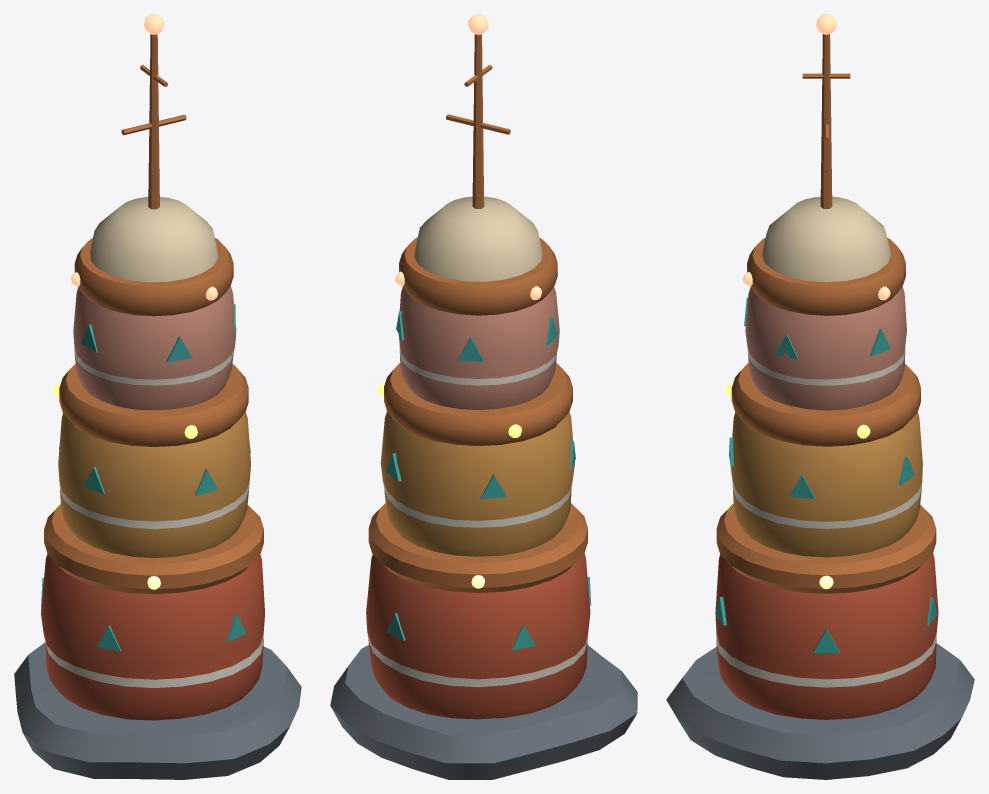
The model's file is deco_battery_totem.fbx.
3 renders of one model, left to right at view 1: azimuth 30°, elevation 25°; view 2: azimuth 150°, elevation 25°; view 3: azimuth 270°, elevation 25°, orthographic.
Visible parts, largest first — view 1: BatteryTotem_Cell1, BatteryTotem_Cell2, BatteryTotem_Plinth, BatteryTotem_Cell3, BatteryTotem_Band1, BatteryTotem_Cap, BatteryTotem_Band2, BatteryTotem_Band3, BatteryTotem_Antenna; view 2: BatteryTotem_Cell1, BatteryTotem_Cell2, BatteryTotem_Plinth, BatteryTotem_Cell3, BatteryTotem_Band1, BatteryTotem_Cap, BatteryTotem_Band2, BatteryTotem_Band3, BatteryTotem_Antenna; view 3: BatteryTotem_Cell1, BatteryTotem_Cell2, BatteryTotem_Plinth, BatteryTotem_Cell3, BatteryTotem_Band1, BatteryTotem_Cap, BatteryTotem_Band2, BatteryTotem_Band3, BatteryTotem_Antenna.
Boxes of the visible parts, left/top/right/bottom form: BatteryTotem_Cell1: left=41, top=554, right=264, bottom=720; BatteryTotem_Cell2: left=58, top=412, right=250, bottom=557; BatteryTotem_Plinth: left=14, top=642, right=301, bottom=779; BatteryTotem_Cell3: left=73, top=286, right=236, bottom=410; BatteryTotem_Band1: left=44, top=504, right=263, bottom=594; BatteryTotem_Cap: left=89, top=197, right=218, bottom=282; BatteryTotem_Band2: left=59, top=363, right=248, bottom=446; BatteryTotem_Band3: left=74, top=238, right=233, bottom=316; BatteryTotem_Antenna: left=121, top=14, right=186, bottom=209; BatteryTotem_Cell1: left=366, top=554, right=591, bottom=719; BatteryTotem_Cell2: left=380, top=411, right=575, bottom=556; BatteryTotem_Plinth: left=330, top=645, right=637, bottom=779; BatteryTotem_Cell3: left=396, top=287, right=559, bottom=409; BatteryTotem_Band1: left=368, top=503, right=587, bottom=592; BatteryTotem_Cap: left=414, top=196, right=542, bottom=281; BatteryTotem_Band2: left=384, top=362, right=572, bottom=445; BatteryTotem_Band3: left=399, top=237, right=557, bottom=315; BatteryTotem_Antenna: left=446, top=14, right=510, bottom=208; BatteryTotem_Cell1: left=715, top=553, right=938, bottom=719; BatteryTotem_Cell2: left=729, top=412, right=922, bottom=557; BatteryTotem_Plinth: left=666, top=643, right=974, bottom=779; BatteryTotem_Cell3: left=744, top=286, right=906, bottom=410; BatteryTotem_Band1: left=716, top=503, right=936, bottom=593; BatteryTotem_Cap: left=762, top=196, right=890, bottom=282; BatteryTotem_Band2: left=731, top=363, right=920, bottom=446; BatteryTotem_Band3: left=747, top=237, right=905, bottom=315; BatteryTotem_Antenna: left=802, top=14, right=850, bottom=208.
Bounding box in the file's own units: 102 × 261 × 103.
